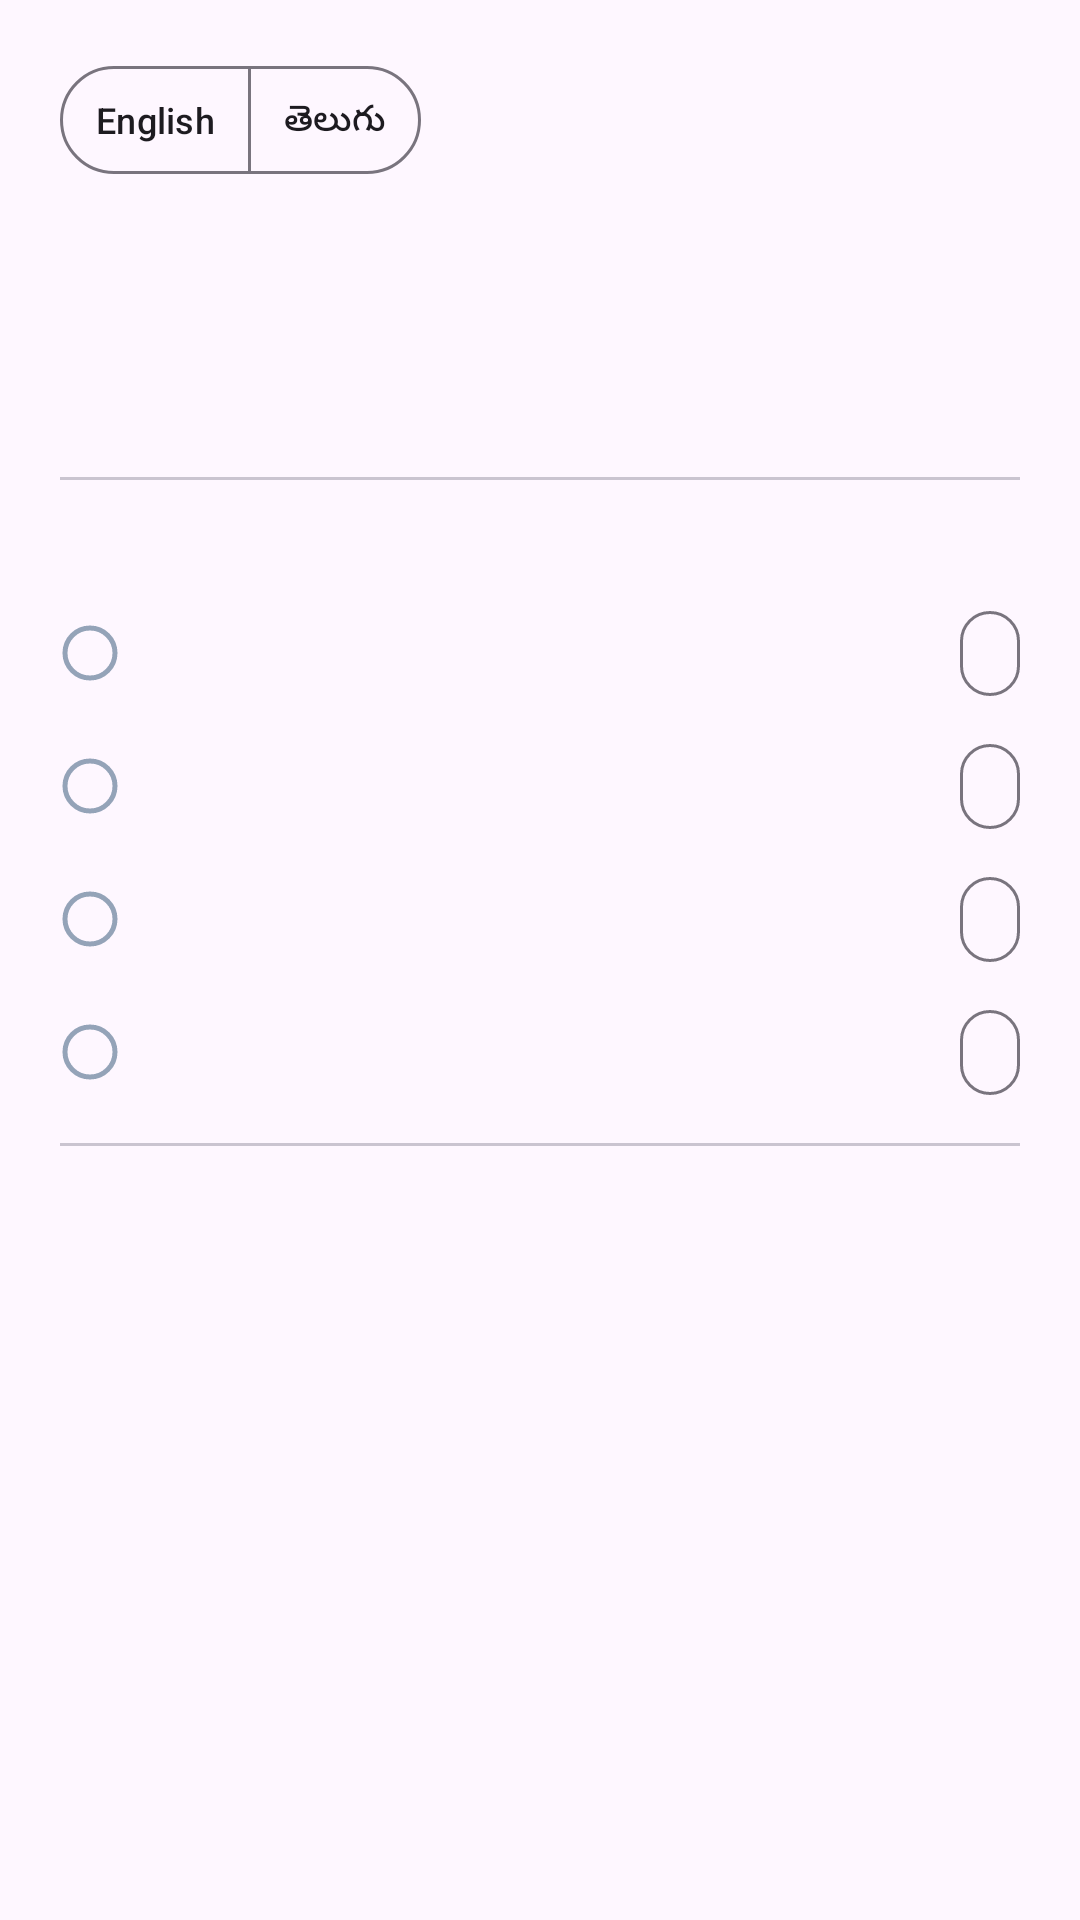

Point at icon controls on the screen. Image size 1080x1920, points as (x,y).
onboarding pending: (90,653), (90,786), (90,919), (90,1052)
